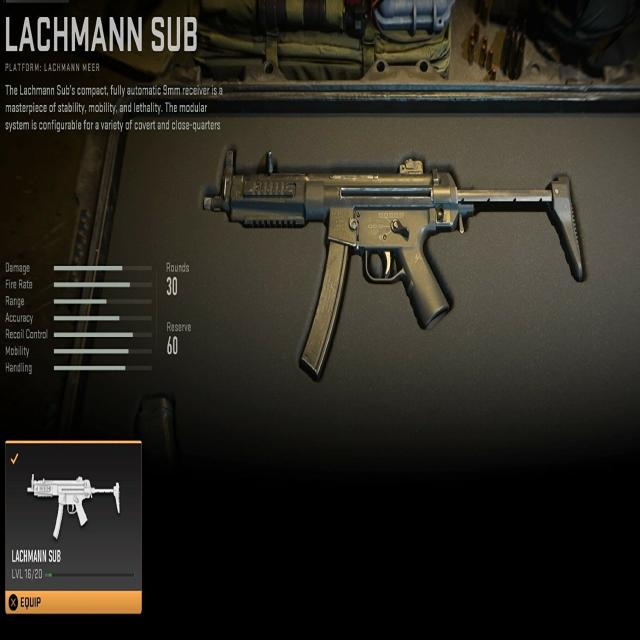Weapon: (203, 150, 583, 377), (27, 475, 120, 539)
